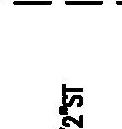verticaltext: (60, 82, 83, 129)
